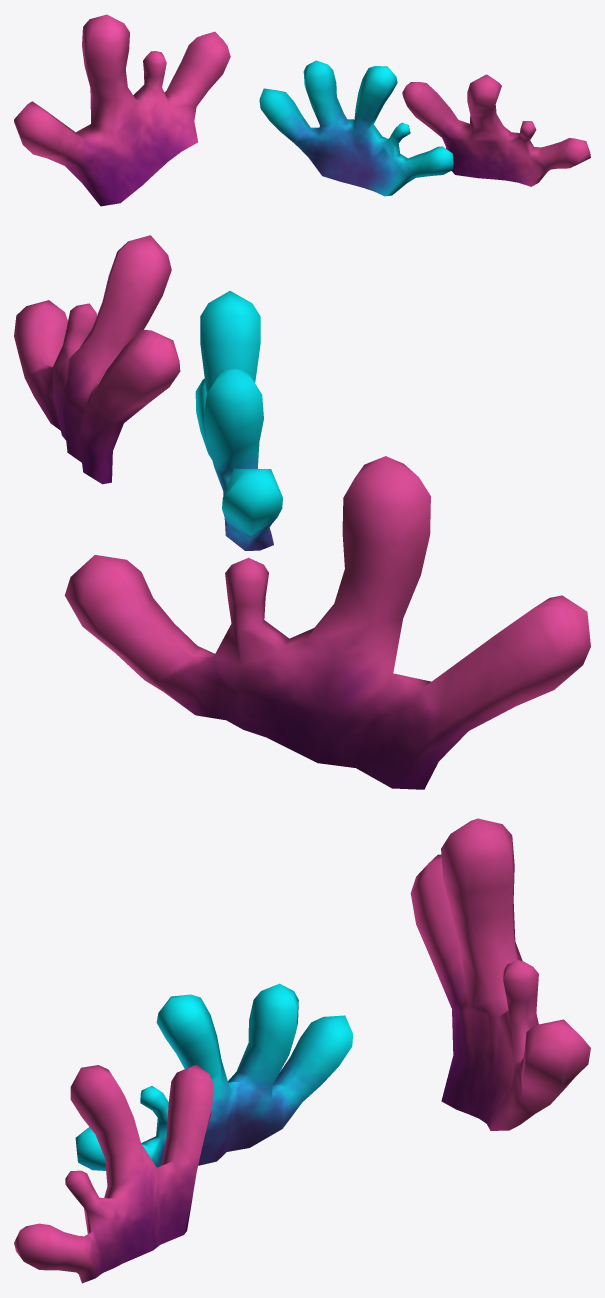
The model's file is Cartoon Seaweed_13-2-45.fbx.
3 views of the same model, one above another, from view 1: azimuth 30°, elevation 25°; view 2: azimuth 150°, elevation 25°; view 3: azimuth 270°, elevation 25° (orthographic). The views are drawn at different scales.
Parts seen in each view (by area): view 1: Cartoon Seaweed_13.2.45; view 2: Cartoon Seaweed_13.2.45; view 3: Cartoon Seaweed_13.2.45.
Boxes of the visible parts, left/top/right/bottom form: Cartoon Seaweed_13.2.45: left=14, top=14, right=590, bottom=206; Cartoon Seaweed_13.2.45: left=14, top=235, right=590, bottom=789; Cartoon Seaweed_13.2.45: left=14, top=818, right=590, bottom=1283.
Size of the model in its own units: 20.05 by 8.01 by 14.66.
Materials: 1 (1 with a texture image).
